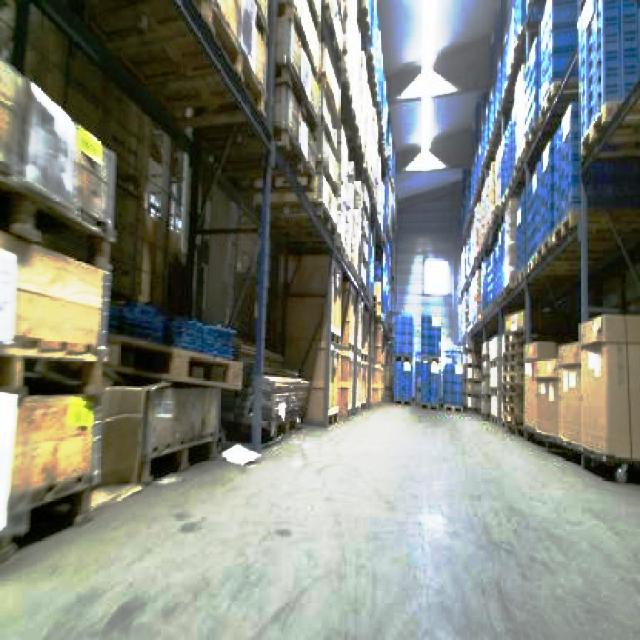ground: (0, 397, 638, 638)
pallet: (457, 0, 638, 489), (0, 9, 118, 575), (0, 322, 243, 565), (463, 308, 638, 483), (575, 0, 638, 482), (95, 329, 243, 486), (103, 331, 243, 391)
